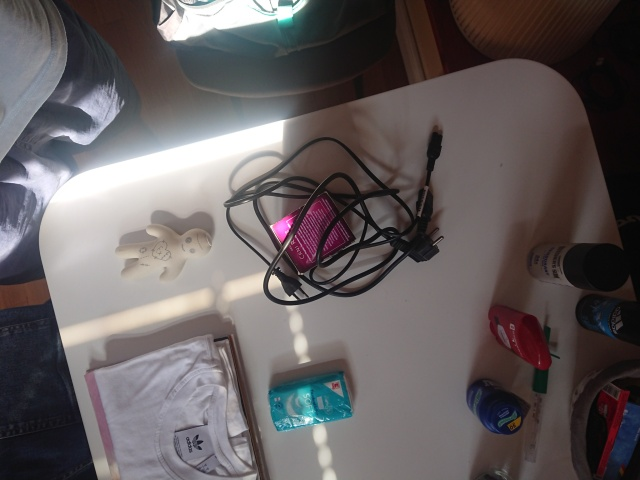Franck Black Currant Tea 60g: (267, 189, 358, 276)
